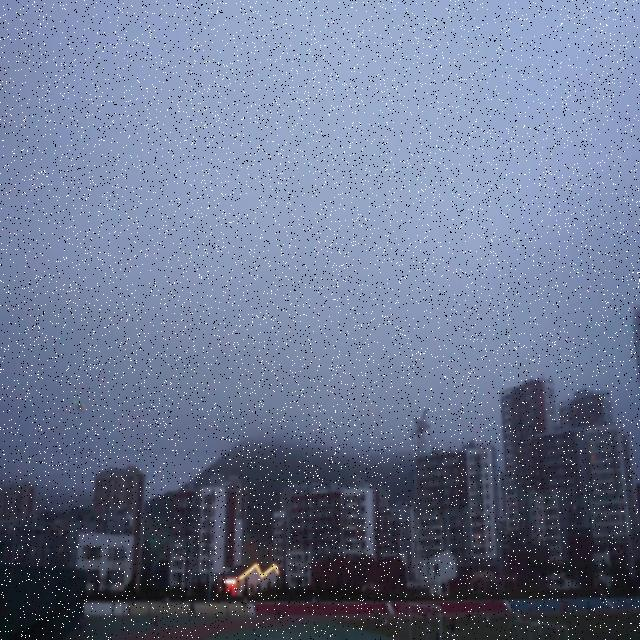UAV: (73, 400, 87, 411)
